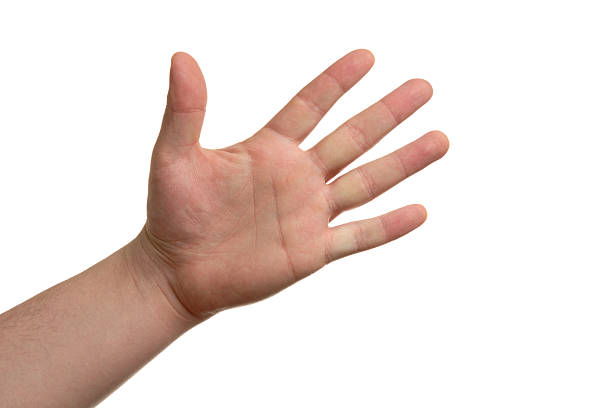hand: (116, 19, 466, 341)
